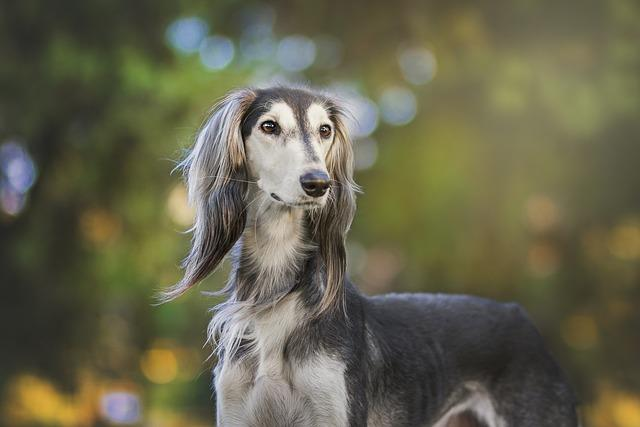Non_Gorille: (3, 1, 640, 427)
